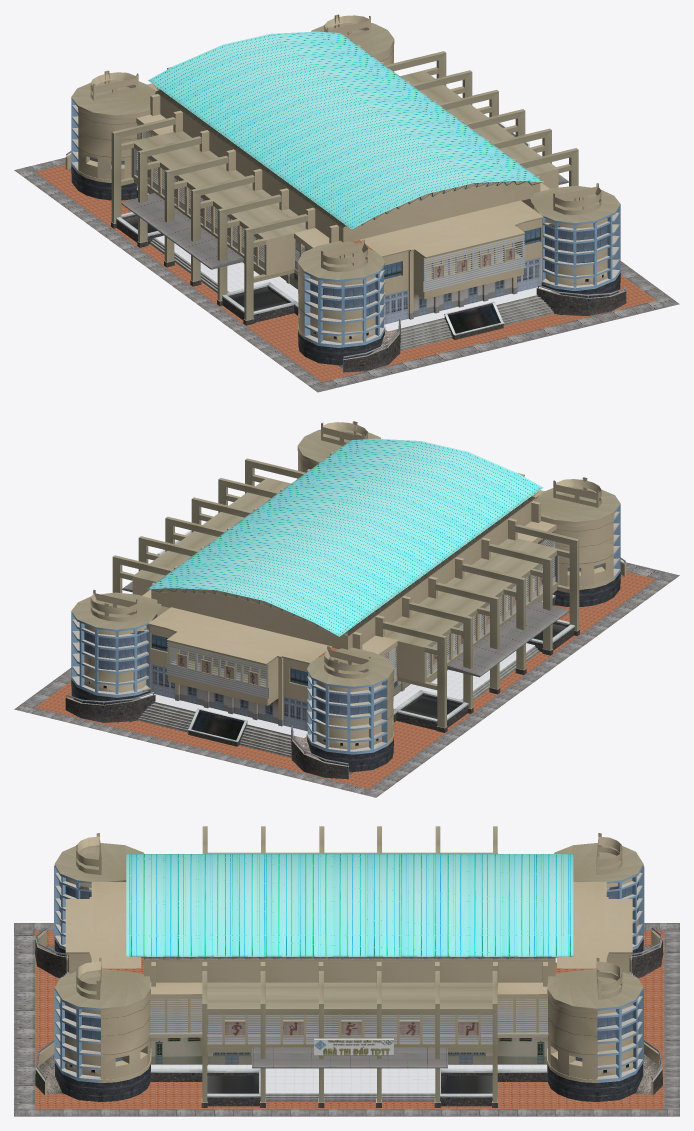
Rendered from sportsHall.glb.
3 views of the same model, one above another, from view 1: azimuth 30°, elevation 25°; view 2: azimuth 150°, elevation 25°; view 3: azimuth 270°, elevation 25° (orthographic). The views are drawn at different scales.
Parts seen in each view (by area): view 1: sportsHall; view 2: sportsHall; view 3: sportsHall.
Part boxes in pixels (bbox=[...]): sportsHall: bbox=[14, 14, 679, 392]; sportsHall: bbox=[14, 421, 679, 797]; sportsHall: bbox=[14, 826, 679, 1116].
Bounding box in the file's own units: 75.68 × 25.02 × 110.
Materials: 7 (6 with a texture image).
